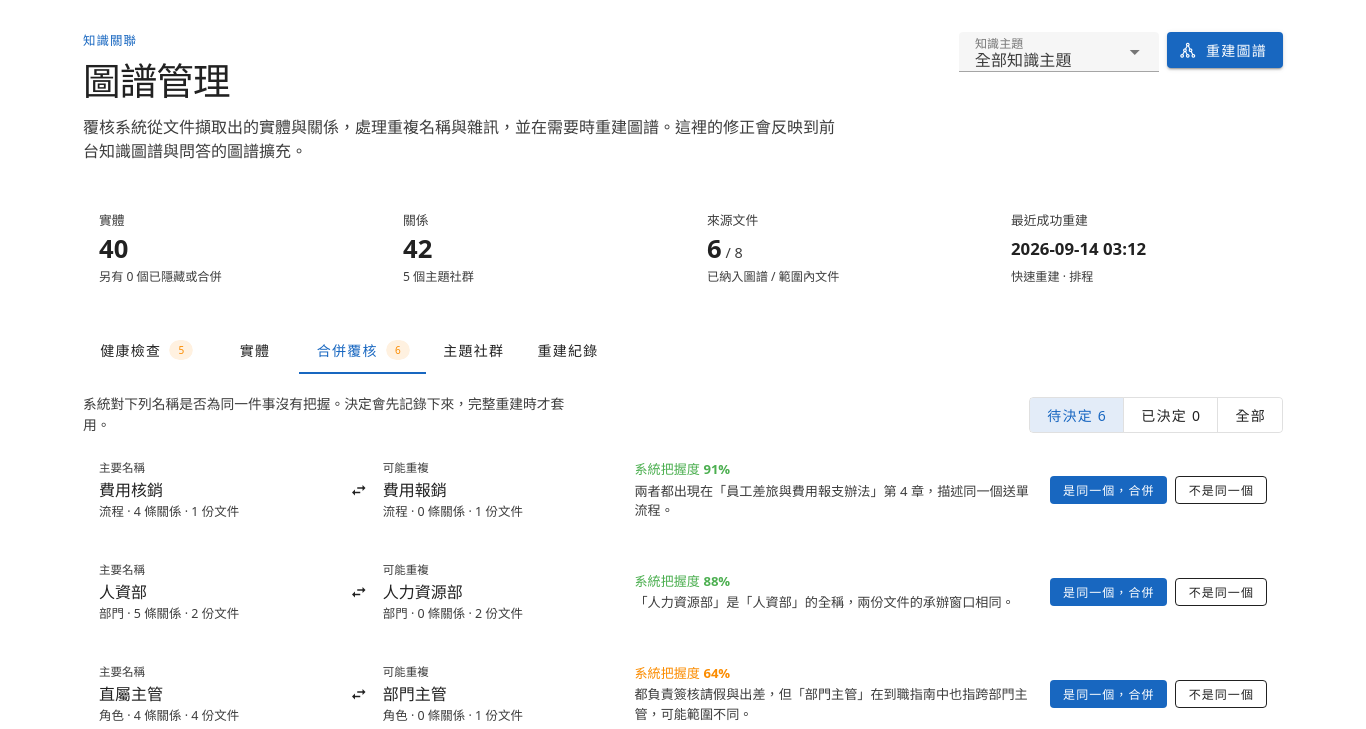
AdminGraphView › 06. 從網址直接開啟合併覆核，決定後出現待套用提示
The image size is (1366, 729).
Click the button with test id "merge-mc-01". click: click(1108, 490)
box: [1050,476,1167,504]
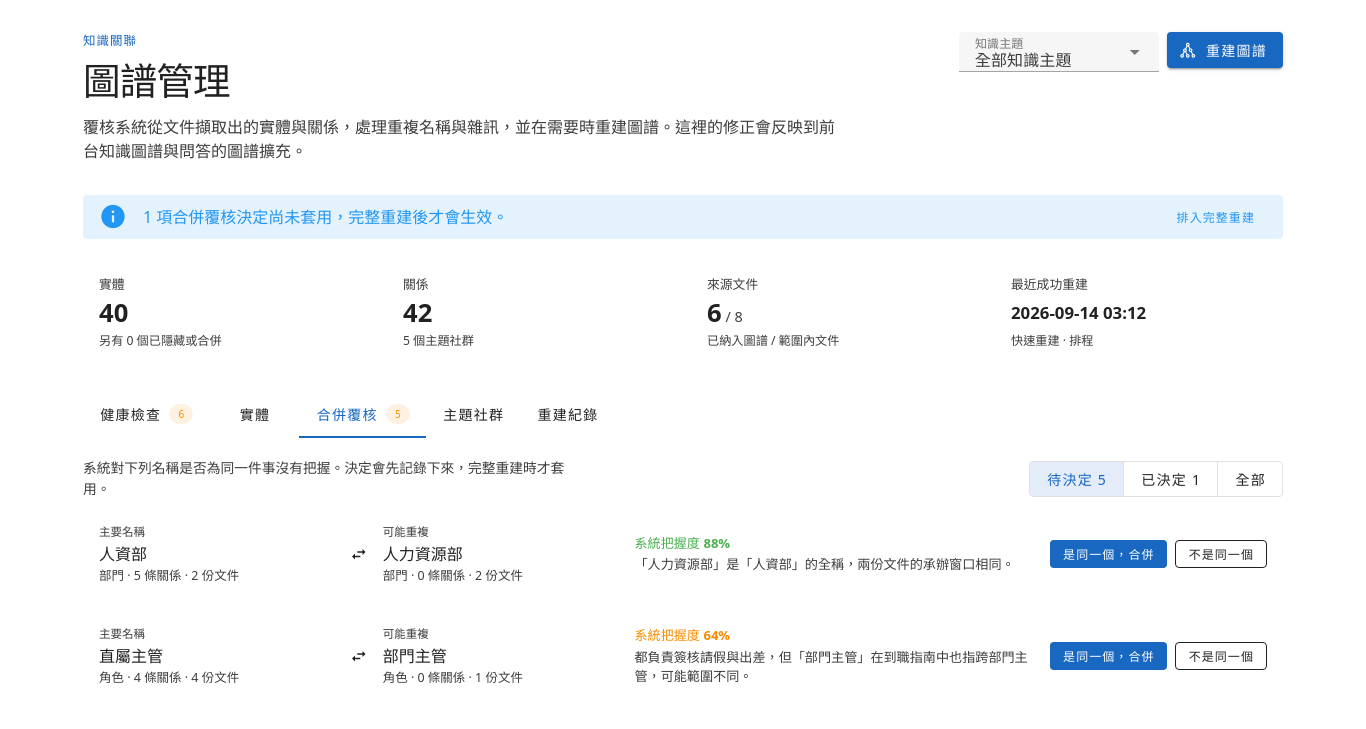
Result: the text "1 項合併覆核決定尚未套用" is shown at [143,206,508,228]
